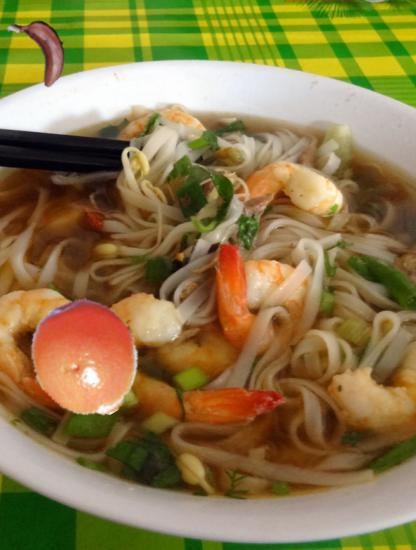Banana: (5, 13, 80, 88)
Tangelo: (27, 299, 148, 420)
